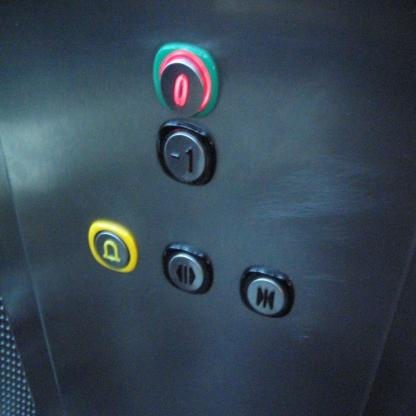-1: (155, 119, 217, 184)
0: (152, 42, 218, 116)
alarm: (87, 220, 137, 273)
close: (238, 266, 294, 317)
open: (162, 243, 214, 295)
